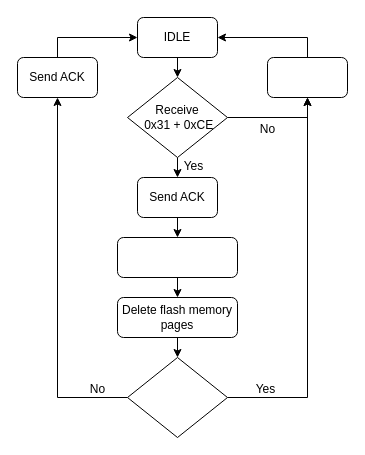
Some shapes in this 365 by 455 pixel diagram are drawn without their labels. The shapes that lost their labels are listed below. From the top down, each one's centre as x and y in pixels, then its label:
the point at 307,77: Send NACK
the point at 177,257: Receive page count and initial page
the point at 177,397: Error during deletion?
